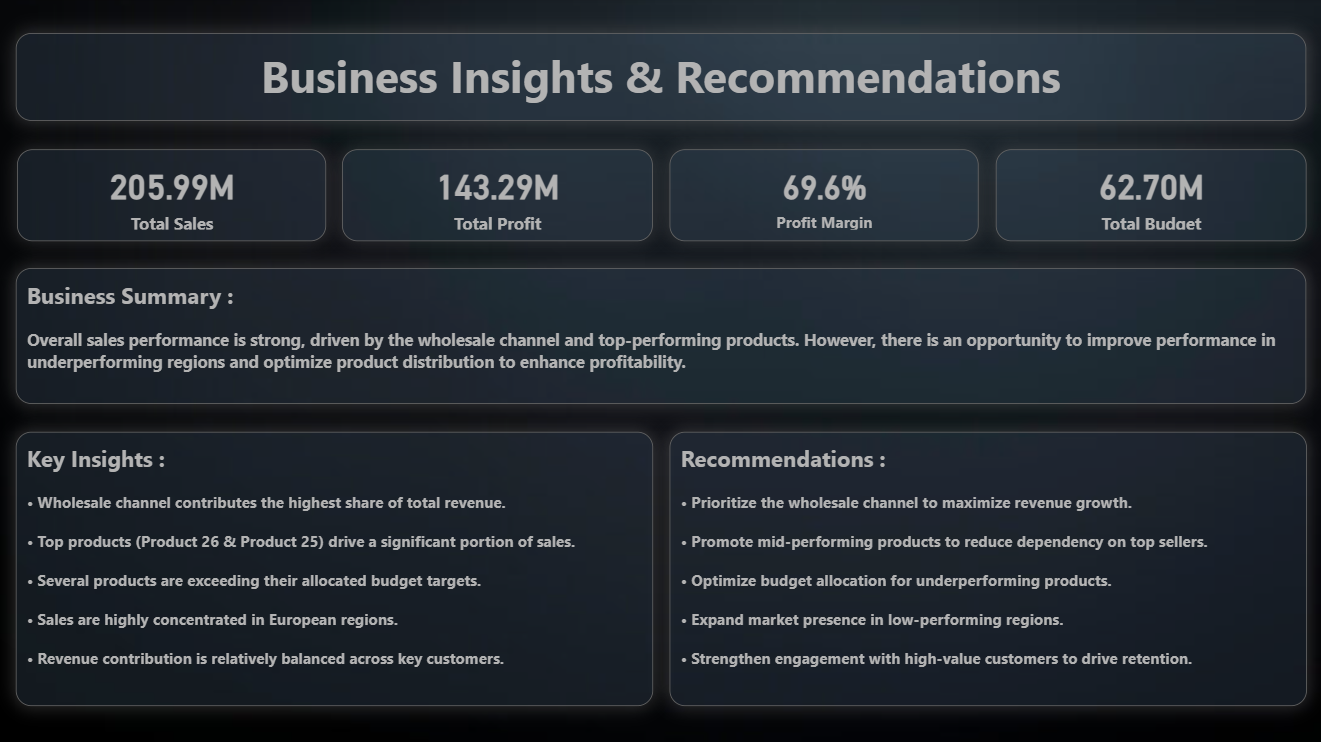

The dashboard page shown, as its layout file describes it:
{"tool":"powerbi","page":{"name":"Insights Report","canvas":[1280,720],"ordinal":1},"visuals":[{"type":"textbox","box":[17.6,33.8,1245.9,85.1],"z":0},{"type":"card","fields":{"Values":["Sum(sales_orders.sales_amount)"]},"box":[18.9,145.9,298.6,89.2],"z":1000},{"type":"card","fields":{"Values":["sales_orders.Profit"]},"box":[332.4,145.9,300,89.2],"z":2000},{"type":"card","fields":{"Values":["budgets.Profit Margin"]},"box":[648.6,145.9,298.6,89.2],"z":3000},{"type":"card","fields":{"Values":["Sum(budgets.budget_amount)"]},"box":[963.5,145.9,300,89.2],"z":4000},{"type":"textbox","box":[17.6,418.9,614.9,264.9],"z":5000},{"type":"textbox","box":[648.6,418.9,614.9,264.9],"z":6000},{"type":"textbox","box":[17.6,260.8,1245.9,131.1],"z":7000}]}

Visuals, with their boxes in screenshot pixels (x1, y1, x2, y2), scaled from the page's 1280x720 canvas onto the 1321x742 screenshot:
textbox: crop(18, 35, 1304, 123)
card - Sum(sales_orders.sales_amount): crop(20, 150, 328, 242)
card - sales_orders.Profit: crop(343, 150, 653, 242)
card - budgets.Profit Margin: crop(669, 150, 978, 242)
card - Sum(budgets.budget_amount): crop(994, 150, 1304, 242)
textbox: crop(18, 432, 653, 705)
textbox: crop(669, 432, 1304, 705)
textbox: crop(18, 269, 1304, 404)
